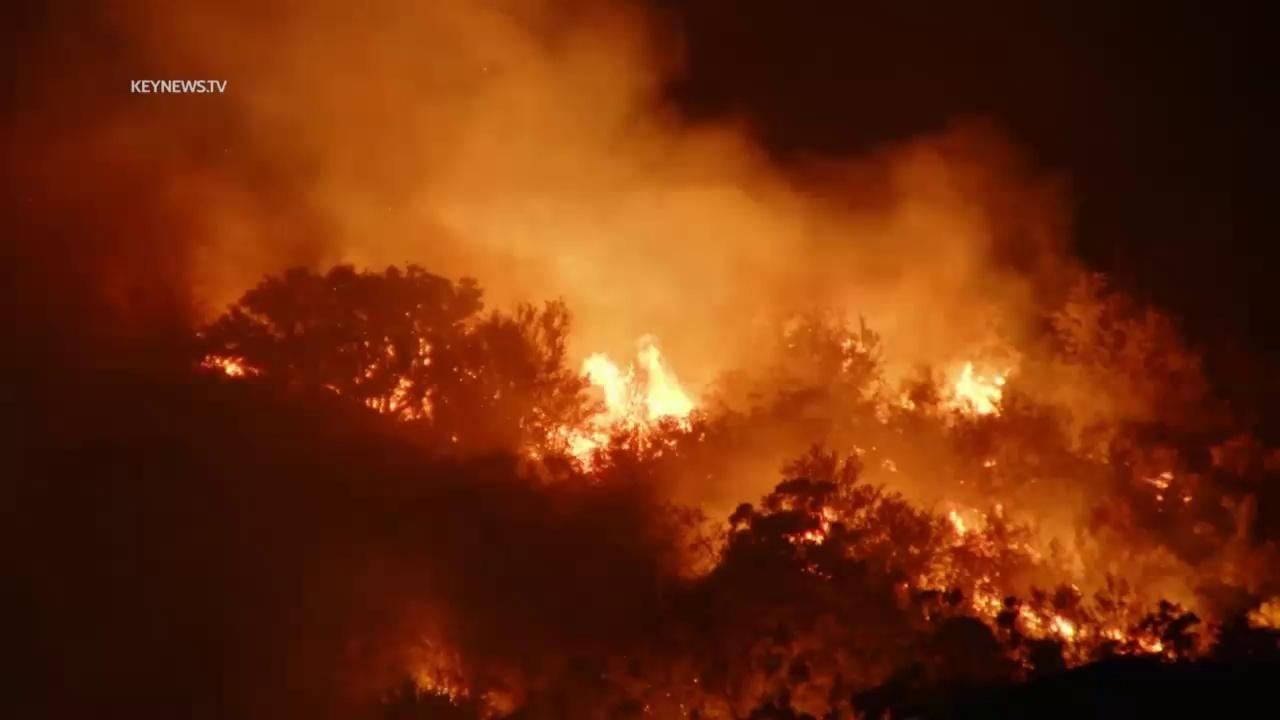fire: (529, 334, 699, 478), (970, 572, 1177, 662), (353, 319, 437, 423), (940, 361, 1015, 423), (784, 506, 840, 549), (196, 352, 264, 382), (1141, 470, 1175, 504), (943, 509, 970, 538), (880, 460, 900, 475), (981, 458, 998, 468), (1182, 493, 1194, 504)
smoke: (0, 0, 1280, 720)
